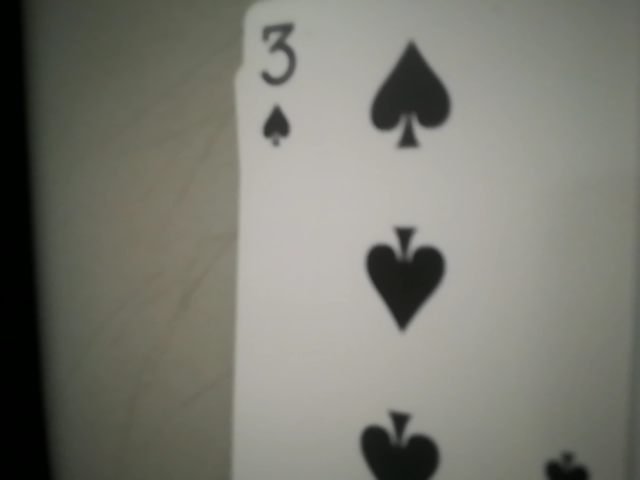ht 3: (236, 17, 328, 165)
